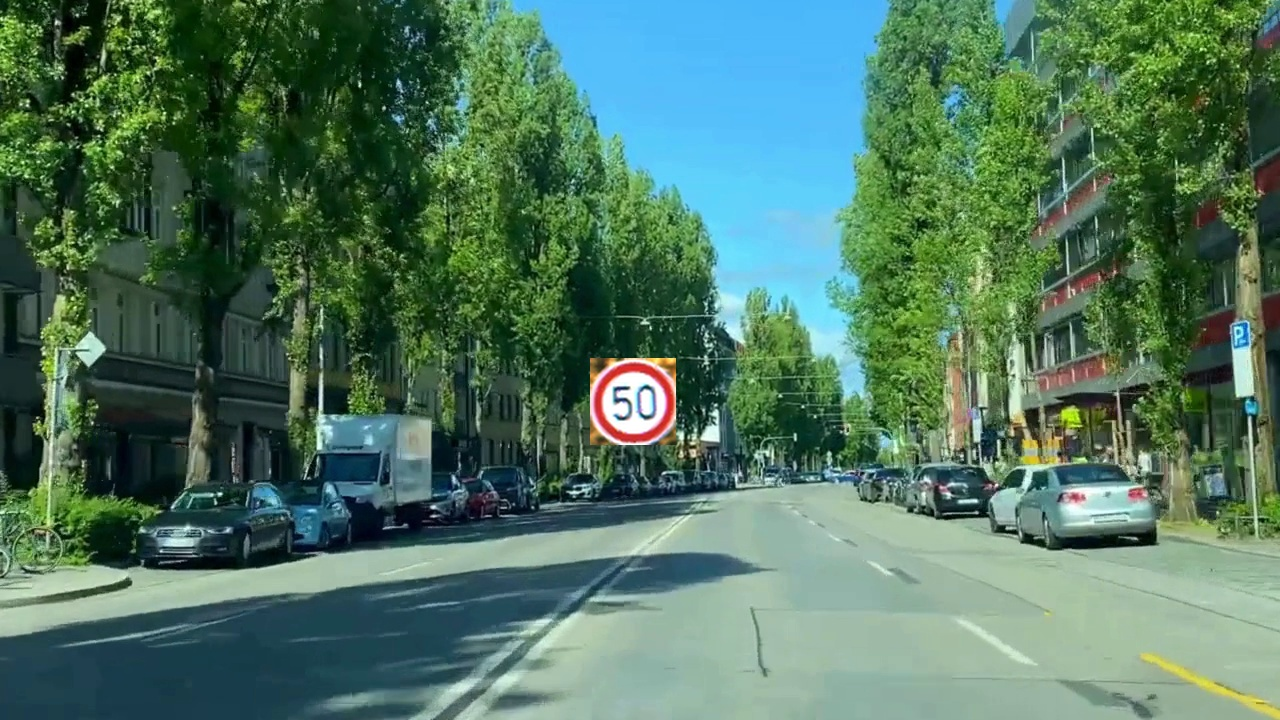Speed 50: (590, 358, 676, 445)
